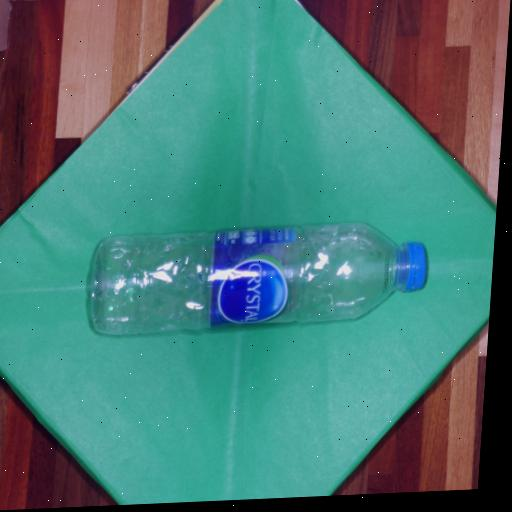bottle: (72, 195, 444, 351)
